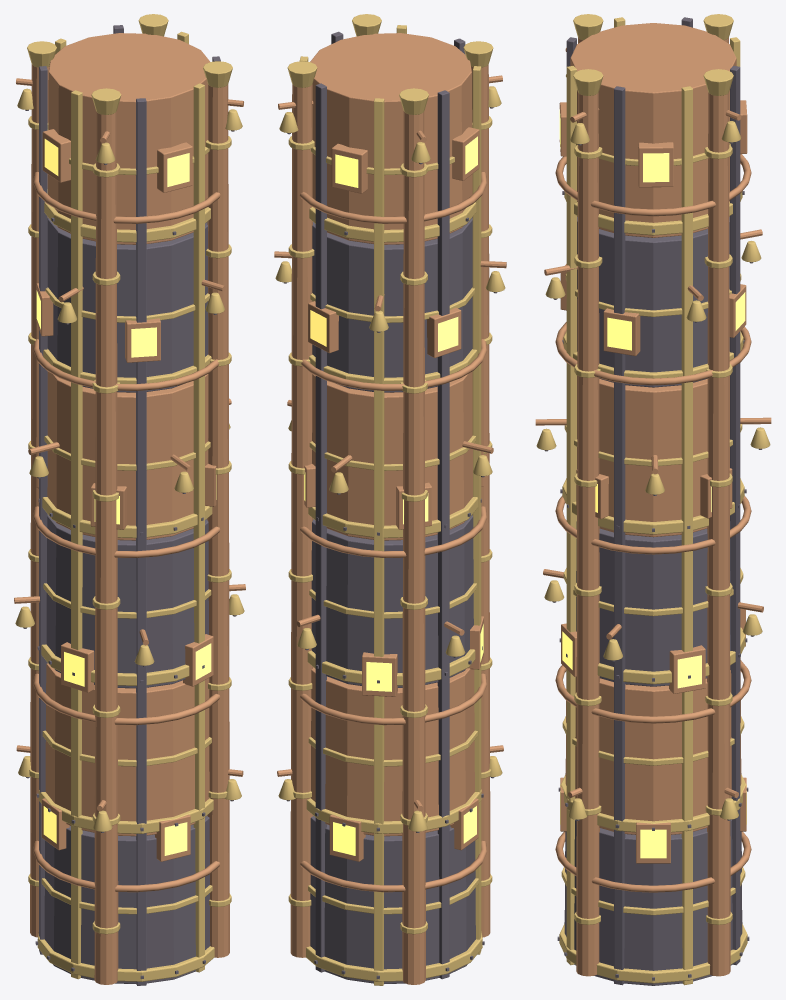
File: w2_foundry_core.glb
The picture shows the model from 3 angles, left to right: view 1: azimuth 30°, elevation 25°; view 2: azimuth 150°, elevation 25°; view 3: azimuth 270°, elevation 25°; orthographic projection.
Visible parts, largest first — view 1: BoilerDrum_1, BellClapper_0_0, BrassGirdle_0, FurnaceMouth_0_0; view 2: BoilerDrum_1, BellClapper_0_0, BrassGirdle_0, FurnaceMouth_0_0; view 3: BoilerDrum_1, BellClapper_0_0, BrassGirdle_0, FurnaceMouth_0_0.
Part boxes in pixels (bbox=[...]): BoilerDrum_1: bbox=[14, 33, 245, 984]; BellClapper_0_0: bbox=[23, 25, 236, 985]; BrassGirdle_0: bbox=[15, 14, 244, 981]; FurnaceMouth_0_0: bbox=[36, 139, 216, 855]; BoilerDrum_1: bbox=[274, 33, 506, 984]; BellClapper_0_0: bbox=[283, 31, 497, 983]; BrassGirdle_0: bbox=[275, 14, 505, 985]; FurnaceMouth_0_0: bbox=[304, 136, 483, 855]; BoilerDrum_1: bbox=[535, 23, 771, 976]; BellClapper_0_0: bbox=[544, 17, 762, 985]; BrassGirdle_0: bbox=[536, 14, 770, 985]; FurnaceMouth_0_0: bbox=[559, 109, 746, 858].
Bounding box in the file's own units: 43.01 × 181 × 43.01.
